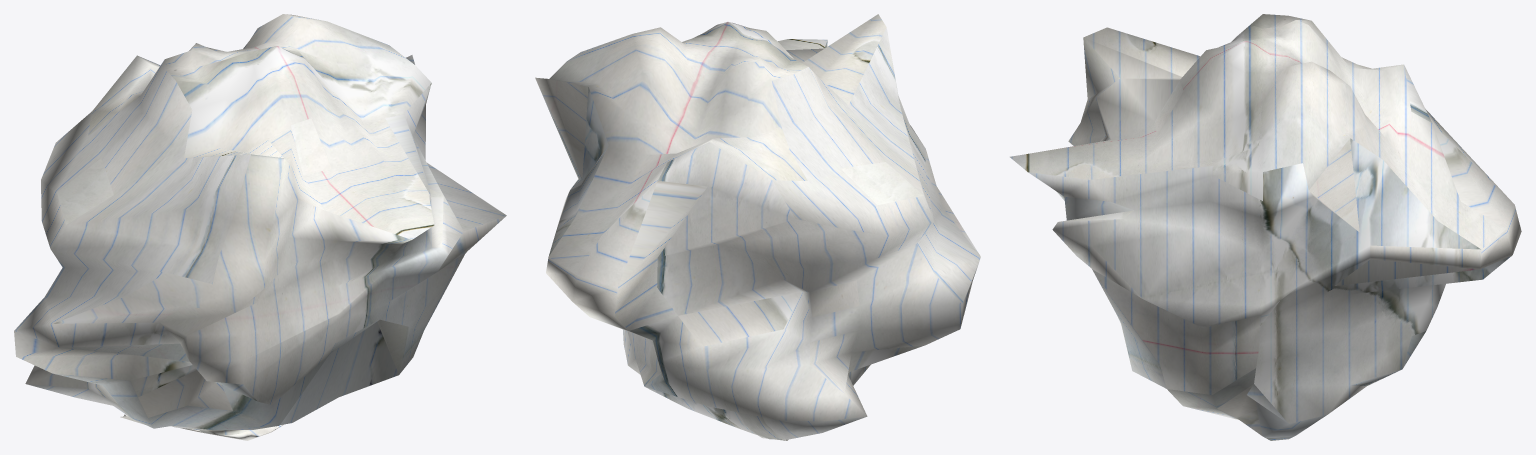
Rendered from zpaper.fbx.
The picture shows the model from 3 angles, left to right: view 1: azimuth 30°, elevation 25°; view 2: azimuth 150°, elevation 25°; view 3: azimuth 270°, elevation 25°; orthographic projection. The views are drawn at different scales.
Visible parts, largest first — view 1: pSphere1; view 2: pSphere1; view 3: pSphere1.
Part boxes in pixels (x1,y1,x2,y2): pSphere1: (14,14,506,440); pSphere1: (535,14,980,440); pSphere1: (1010,14,1521,440).
Size of the model in its own units: 2.69 by 2.36 by 2.79.
Materials: 1 (1 with a texture image).
